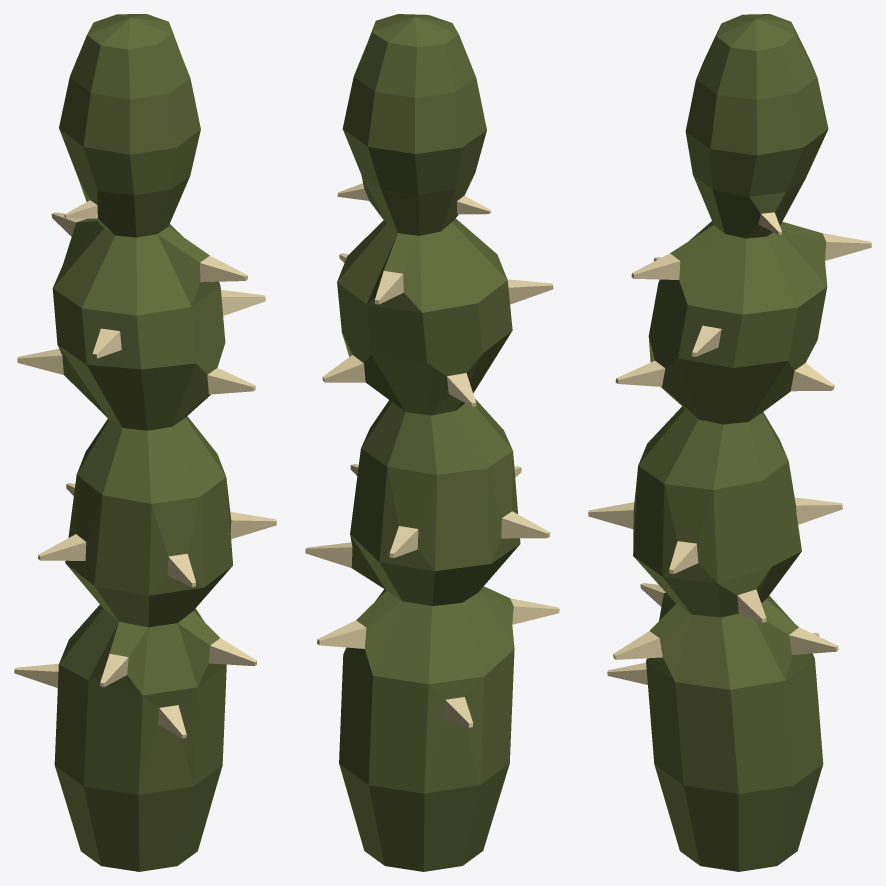
File: Cactus_1_1_2_v03_Colored.fbx
The picture shows the model from 3 angles, left to right: view 1: azimuth 30°, elevation 25°; view 2: azimuth 150°, elevation 25°; view 3: azimuth 270°, elevation 25°; orthographic projection.
Parts seen in each view (by area): view 1: Cactus_1_1_2_v03; view 2: Cactus_1_1_2_v03; view 3: Cactus_1_1_2_v03.
Part boxes in pixels (bbox=[...]): Cactus_1_1_2_v03: bbox=[14, 14, 276, 871]; Cactus_1_1_2_v03: bbox=[305, 14, 559, 871]; Cactus_1_1_2_v03: bbox=[588, 14, 871, 871].
Size of the model in its own units: 54.87 by 200 by 62.07.
